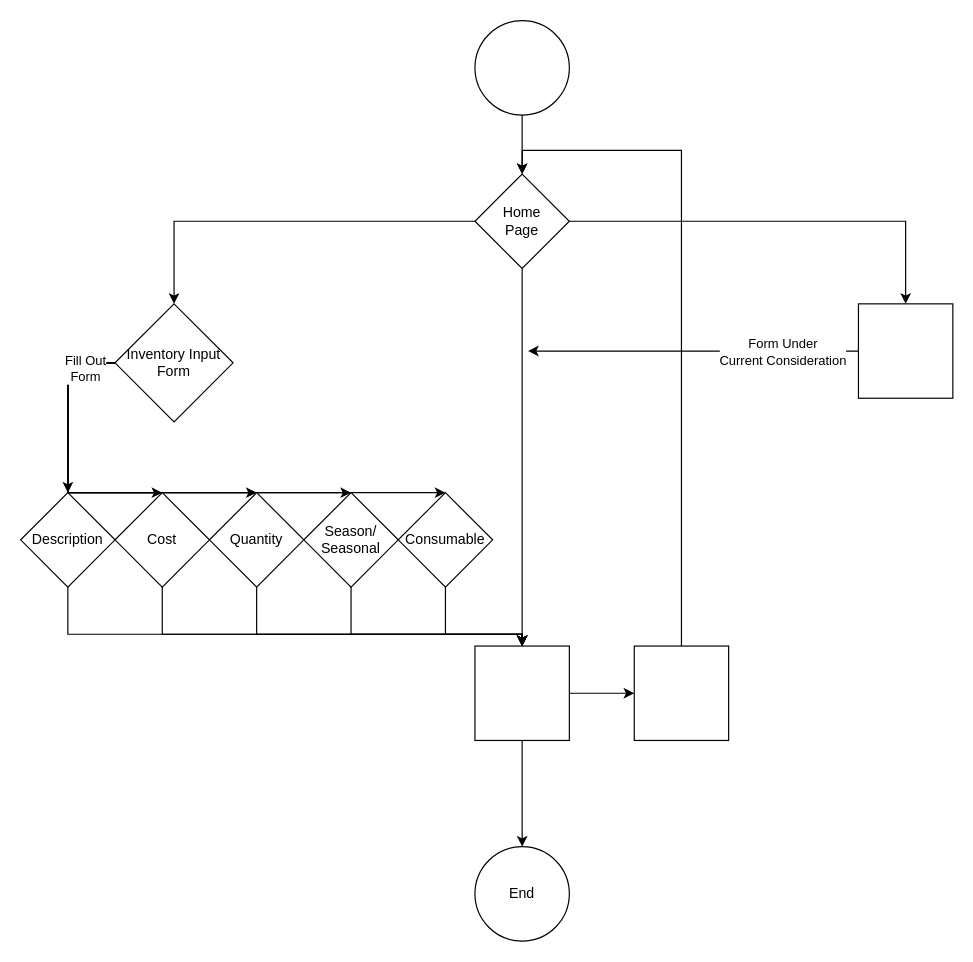
The diagram is 973 pixels wide and 962 high, and some of its shapes have lost their labels. The centre of each missing label's shape, as x and y in pixels:
"BackButton" goes at [681,692].
"Inventory" goes at [521,692].
"Output/ Delete Form" goes at [905,350].
"Start" goes at [521,67].
